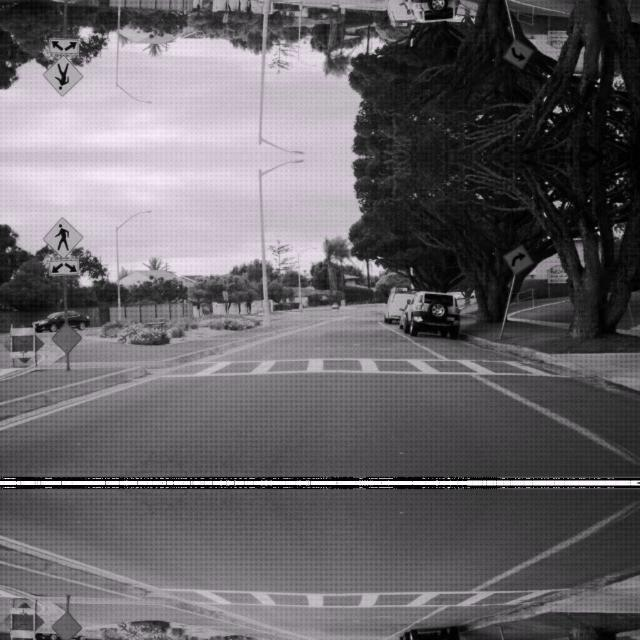pedestrianCrossing: (42, 54, 82, 98), (42, 215, 82, 258)
